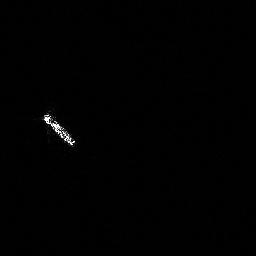ship: (40, 110, 79, 150)
